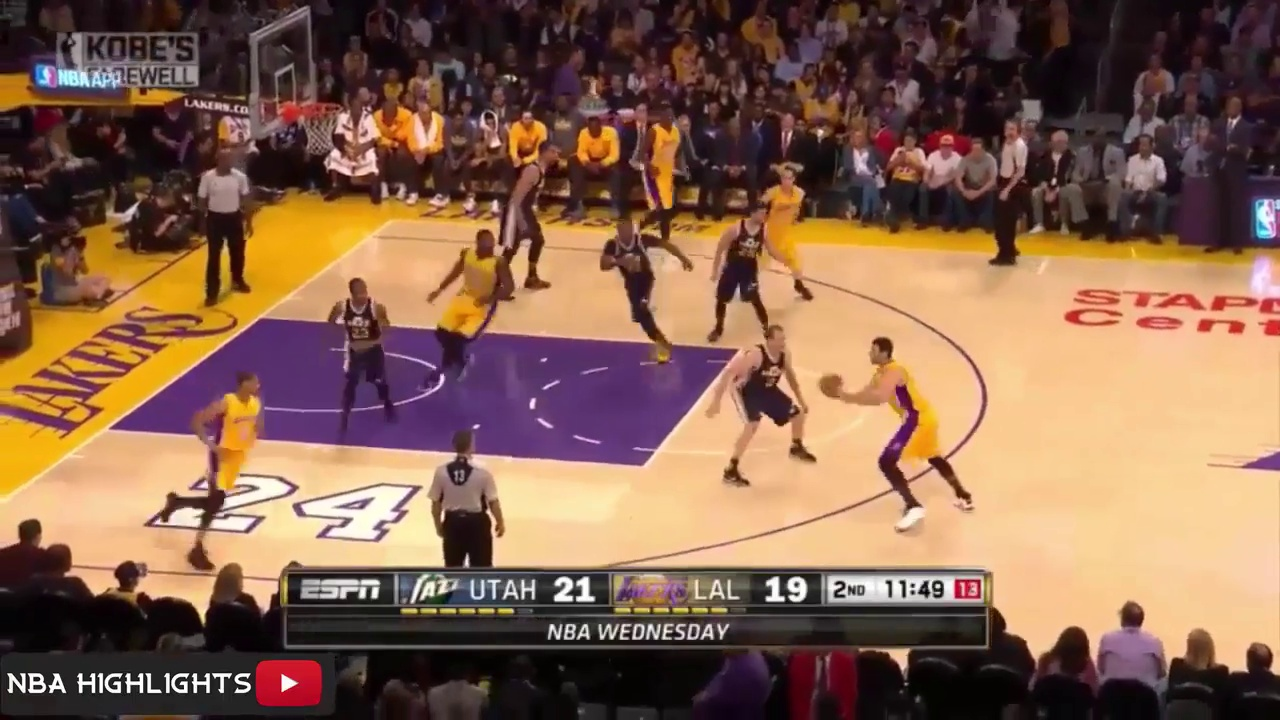jazz: (715, 326, 818, 482), (600, 217, 687, 366), (329, 280, 399, 430), (501, 146, 556, 301), (708, 198, 770, 335)
lakers: (823, 332, 978, 524), (164, 375, 266, 571), (430, 232, 514, 382), (764, 168, 808, 304), (642, 109, 684, 250)
